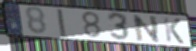3: (108, 11, 130, 42)
8: (24, 6, 50, 37), (81, 11, 103, 39)
I: (55, 8, 68, 38)
K: (162, 16, 186, 45)
N: (132, 14, 162, 44)
